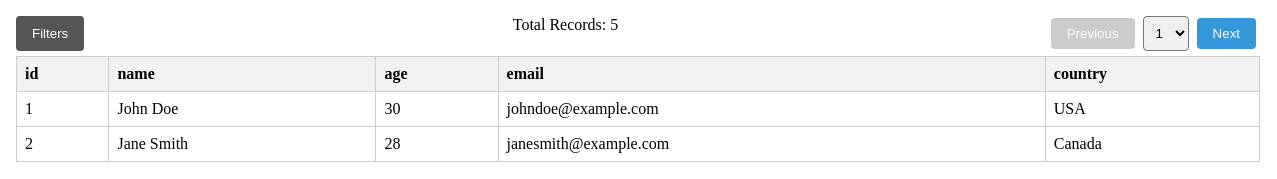
Test case: Data Table With Filter And Pagination Spec › should validate pagination previous and next buttons and current page dropdown
Expected: the text "1" is shown, [16,92,109,126]
Expected: the text "2" is shown, [16,126,109,162]
Note: click on next page
Step 1. Click the button with test id "pagination-next-button" → [1227, 34], box [1197,18,1256,49]
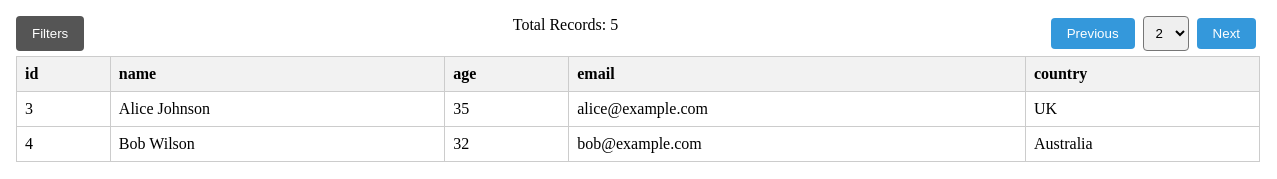
Expected: the text "3" is shown, [16,92,110,126]
Expected: the text "4" is shown, [16,126,110,162]
Note: previous button on pagination should be enabled for the second page
Step 2. Click the button with test id "pagination-previous-button" → [1093, 34], box [1051,18,1135,49]
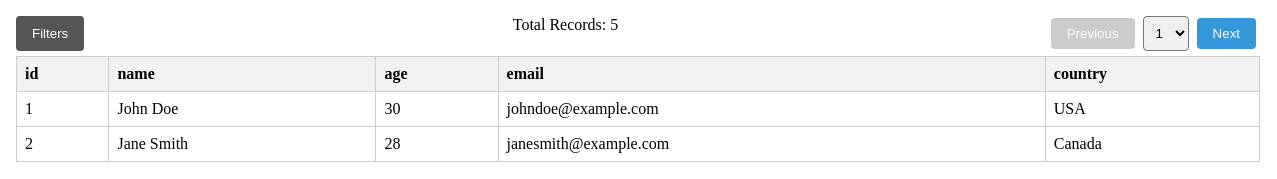
Now the text "1" is shown, box [16,92,109,126]
Now the button with test id "pagination-previous-button" is disabled, box [1051,18,1135,49]
Now the dropdown with test id "pagination-current-page-dropdown" shows "1"
Step 3. Select "3" in the dropdown with test id "pagination-current-page-dropdown" → [1166, 34], box [1143,16,1189,51]
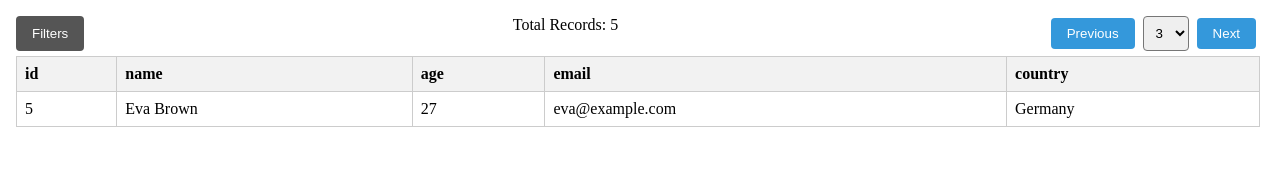
Now the text "5" is shown, box [16,92,117,126]
